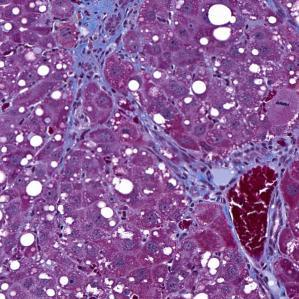fibrosis: (68, 10, 137, 95), (152, 142, 241, 194)
